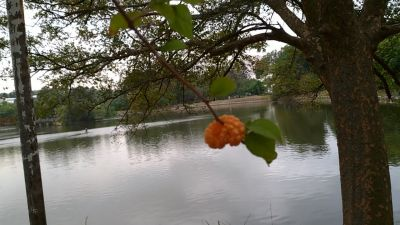eggs: (205, 113, 247, 150)
